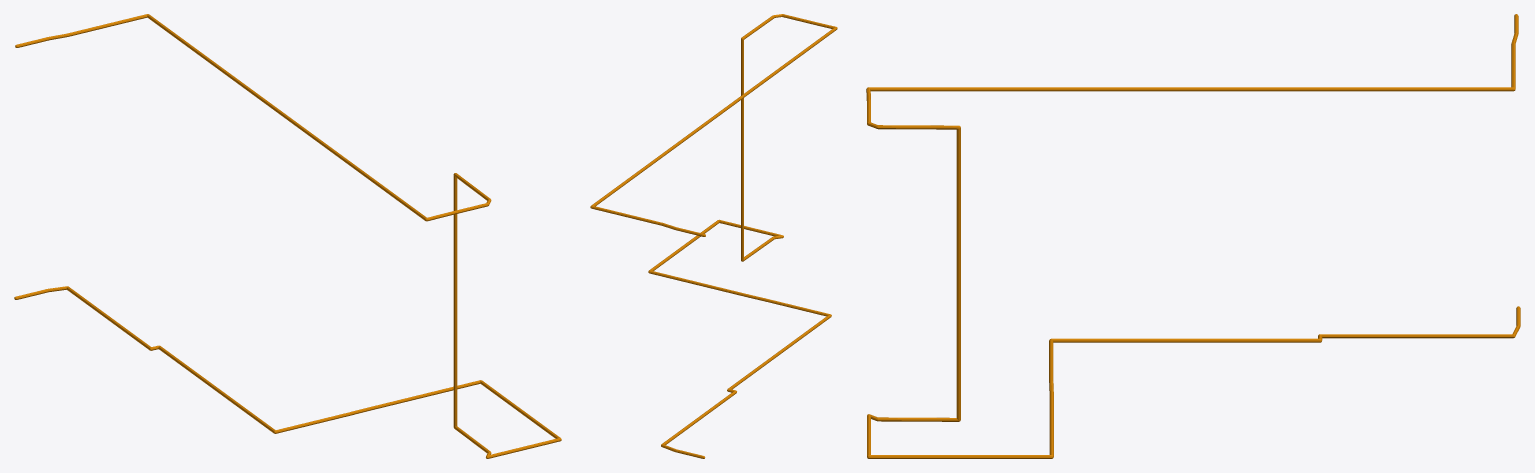
3 renders of one model, left to right at view 1: azimuth 30°, elevation 25°; view 2: azimuth 150°, elevation 25°; view 3: azimuth 270°, elevation 25°, orthographic. The views are drawn at different scales.
Size of the model in its own units: 1656 by 1520 by 3043.
